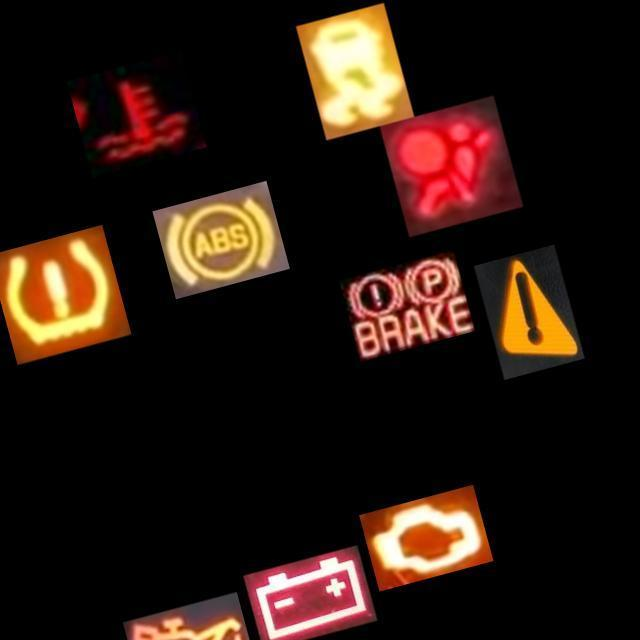Central Warning lamp: (474, 244, 584, 379)
Engine cooling system: (66, 50, 206, 177)
